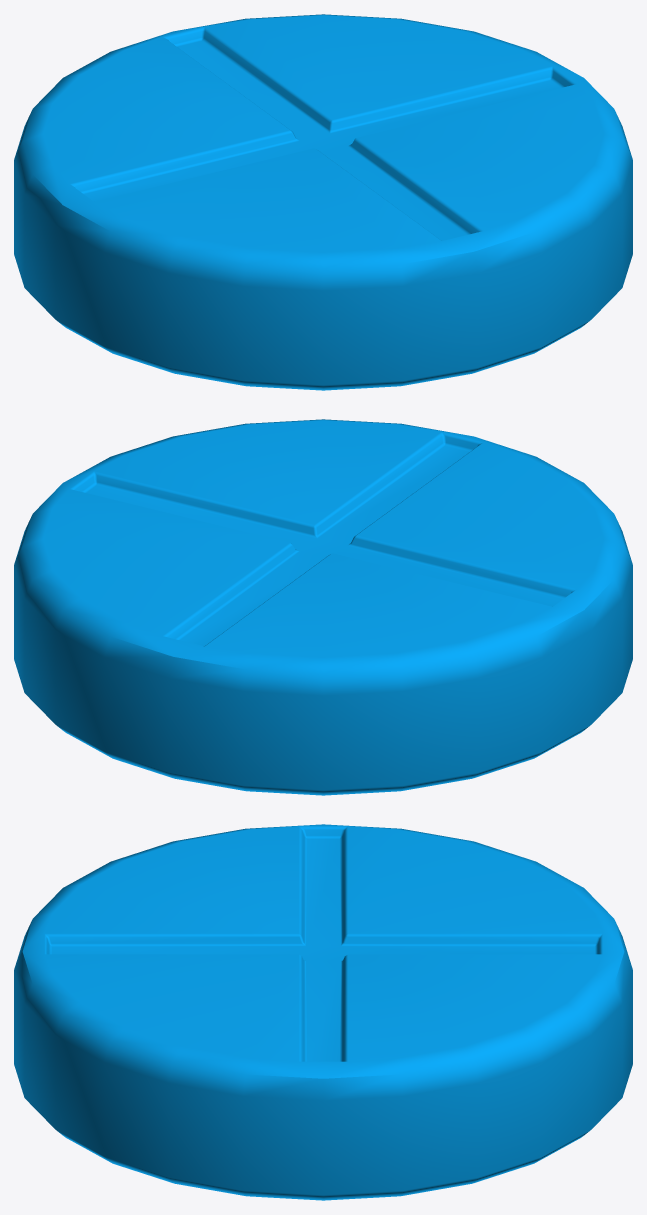
Rendered from Store_15_Pill_5.glb.
3 renders of one model, top to bottom at view 1: azimuth 30°, elevation 25°; view 2: azimuth 150°, elevation 25°; view 3: azimuth 270°, elevation 25°, orthographic.
Visible parts, largest first — view 1: Store_15_Pill_5; view 2: Store_15_Pill_5; view 3: Store_15_Pill_5.
Part boxes in pixels (x1,y1,x2,y2): Store_15_Pill_5: (14,14,632,390); Store_15_Pill_5: (14,419,632,795); Store_15_Pill_5: (14,824,632,1200).
Bounding box in the file's own units: 1.47 × 0.3425 × 1.47.
Materials: 1 (1 with a texture image).
